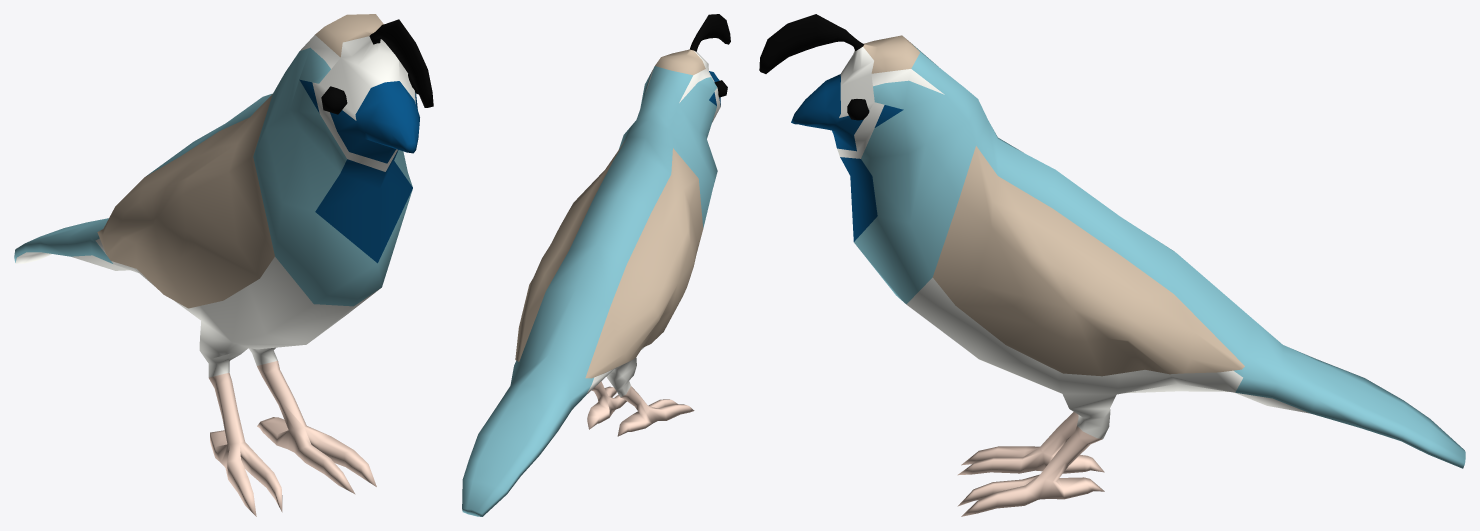
3 views of the same model, side by side, from view 1: azimuth 30°, elevation 25°; view 2: azimuth 150°, elevation 25°; view 3: azimuth 270°, elevation 25° (orthographic). The views are drawn at different scales.
Parts seen in each view (by area): view 1: Quail.1; view 2: Quail.1; view 3: Quail.1.
Boxes of the visible parts, bbox=[...] form: Quail.1: bbox=[14, 14, 433, 516]; Quail.1: bbox=[462, 14, 730, 516]; Quail.1: bbox=[759, 14, 1465, 516].
Bounding box in the file's own units: 157 × 404 × 542.
